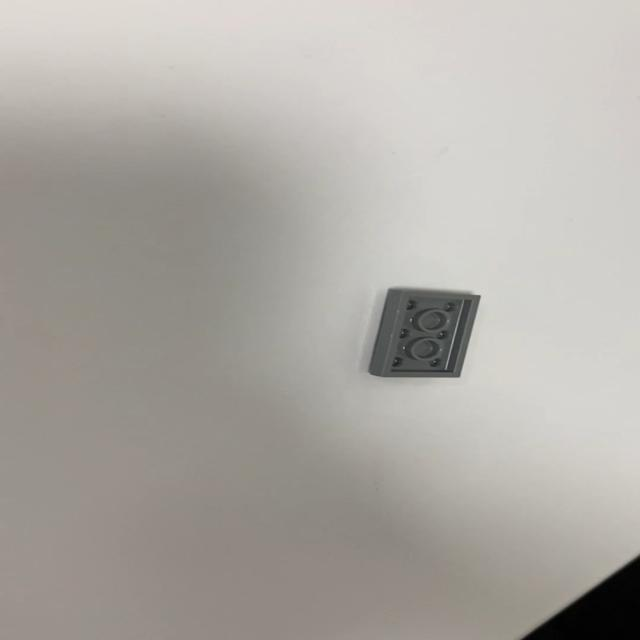C3x2x0: (368, 286, 482, 378)
